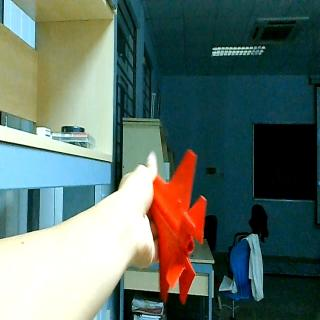Jet: (157, 149, 208, 305)
